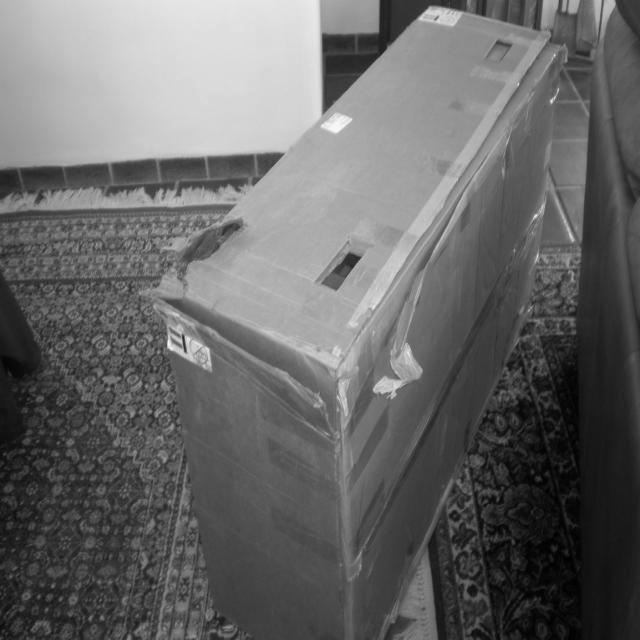hole: (170, 217, 244, 280)
